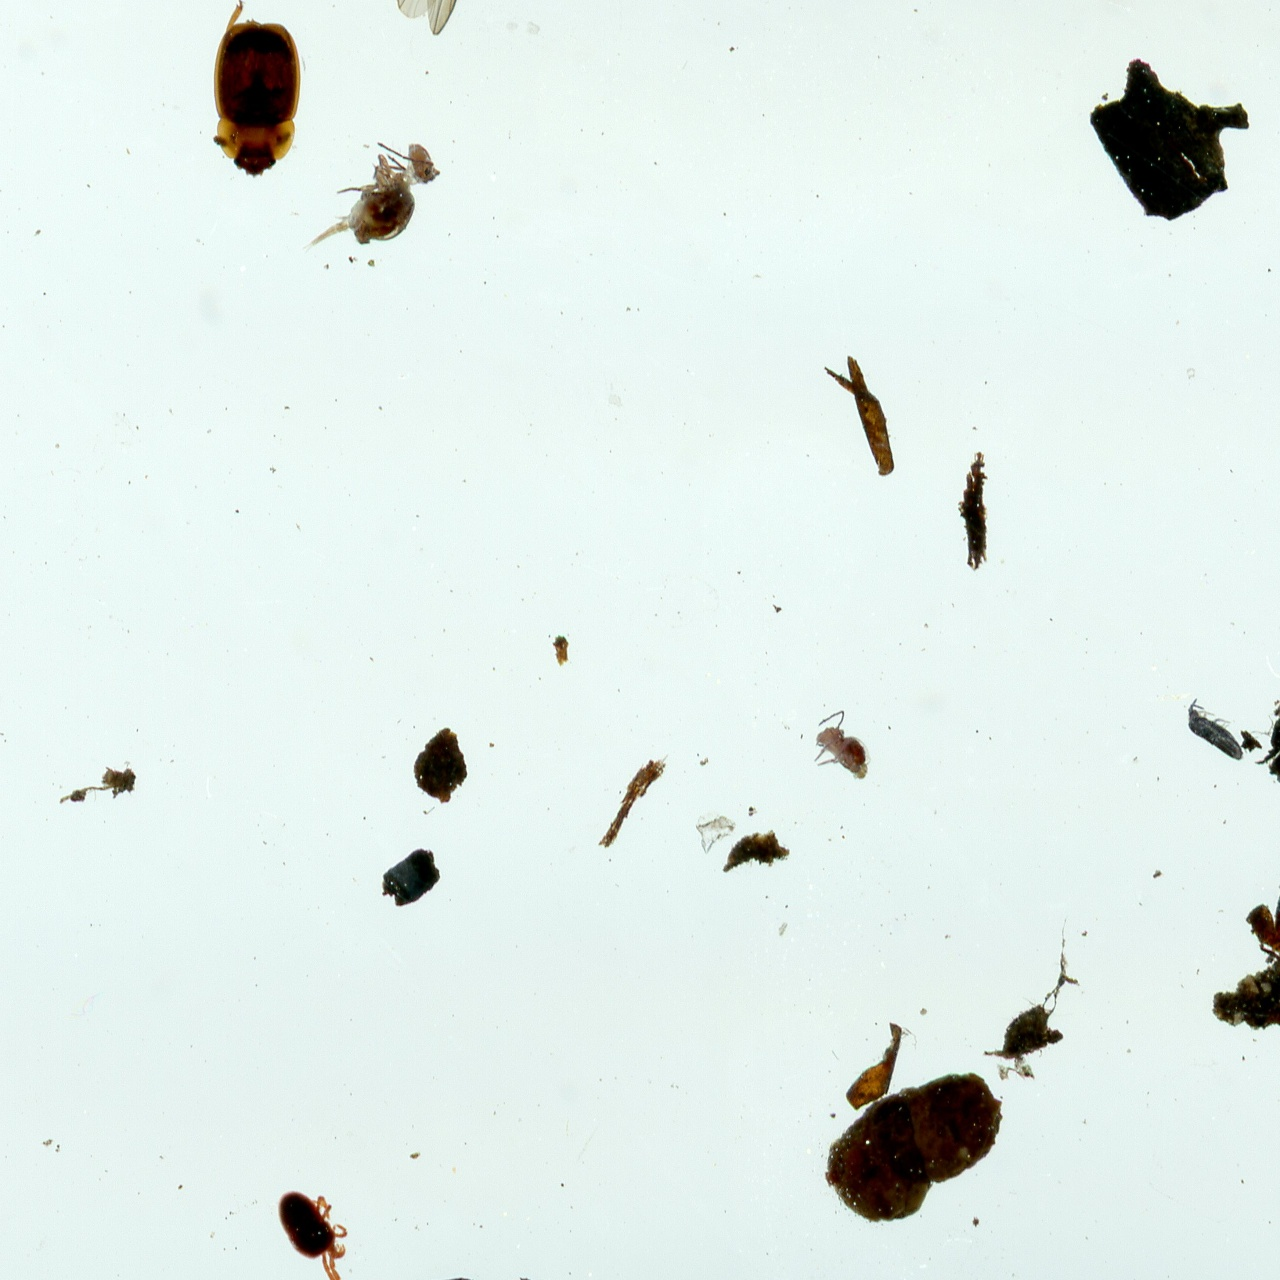arthropod: (203, 0, 305, 178), (305, 139, 450, 256), (274, 1186, 375, 1280), (809, 704, 878, 792), (1185, 690, 1253, 768), (384, 0, 545, 32), (1267, 1073, 1280, 1149)
